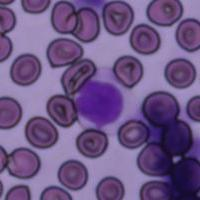M: (73, 66, 136, 130)
